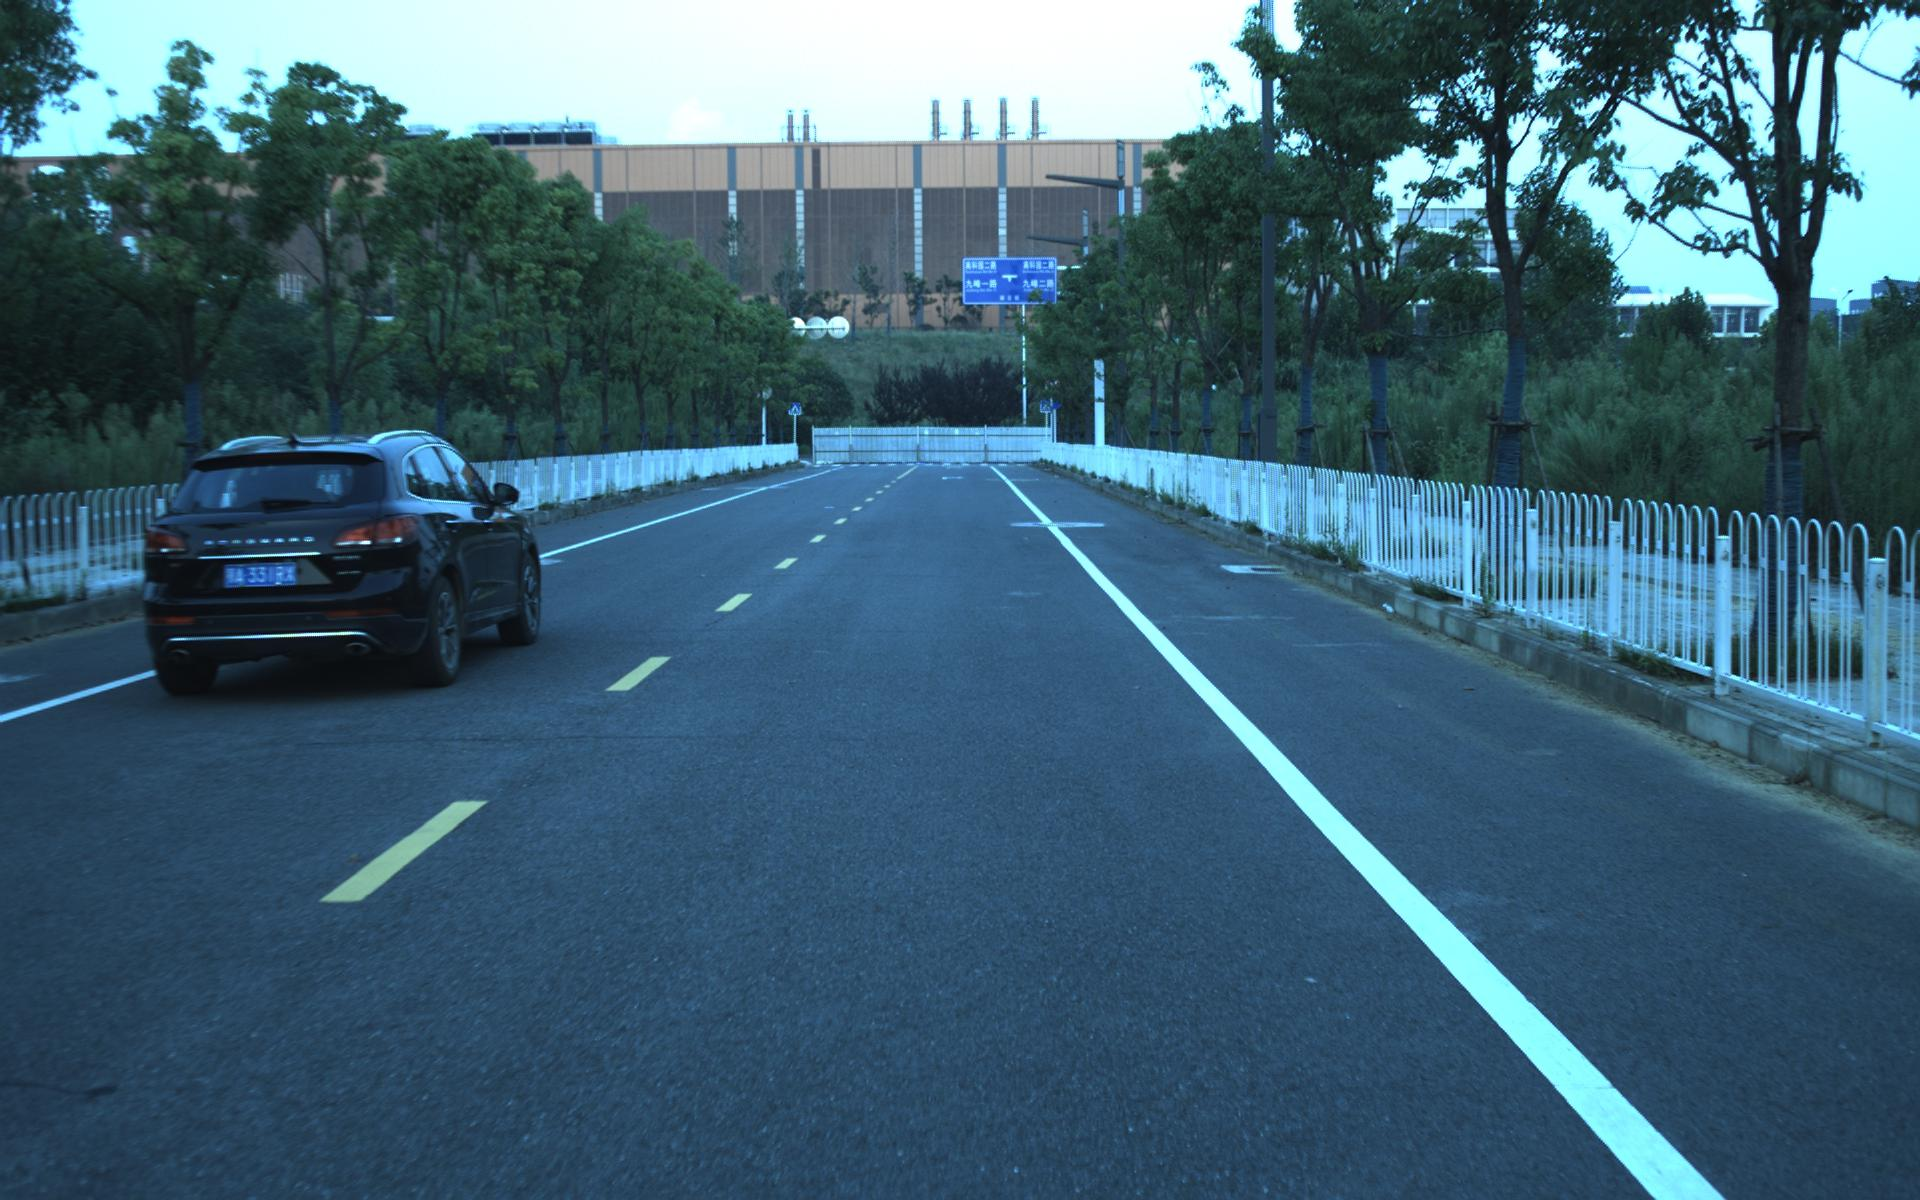Car: (123, 420, 549, 700)
